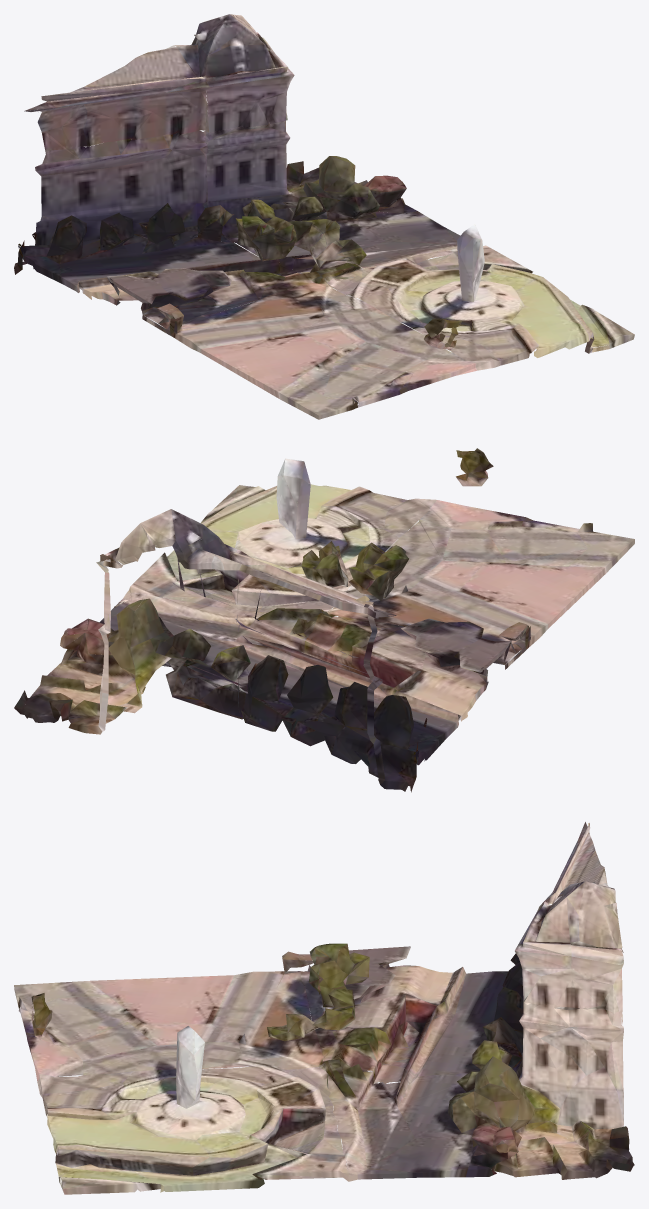
3 views of the same model, one above another, from view 1: azimuth 30°, elevation 25°; view 2: azimuth 150°, elevation 25°; view 3: azimuth 270°, elevation 25° (orthographic). The views are drawn at different scales.
Parts seen in each view (by area): view 1: Mesh_0; view 2: Mesh_0; view 3: Mesh_0.
Boxes of the visible parts, x1,y1,x2,y2 form: Mesh_0: [14, 14, 634, 419]; Mesh_0: [14, 448, 634, 792]; Mesh_0: [14, 822, 634, 1194].
Bounding box in the file's own units: 66.56 × 34.22 × 82.46.
2 materials, 2 textured.
